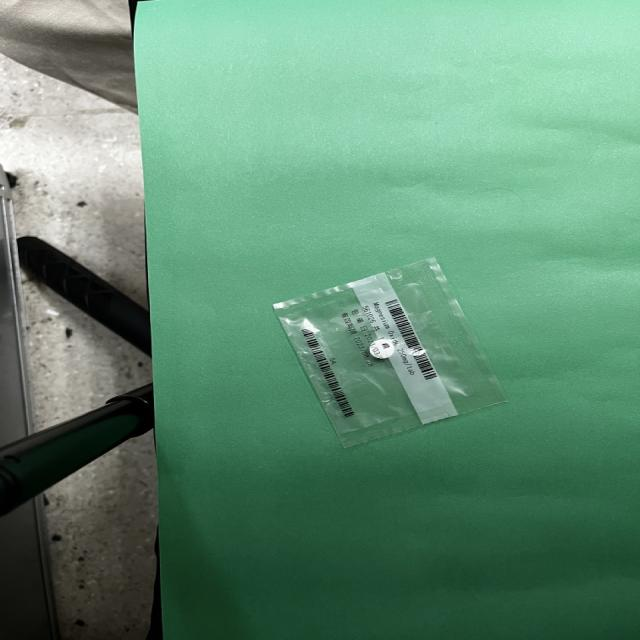Other Objects: (273, 258, 505, 447)
